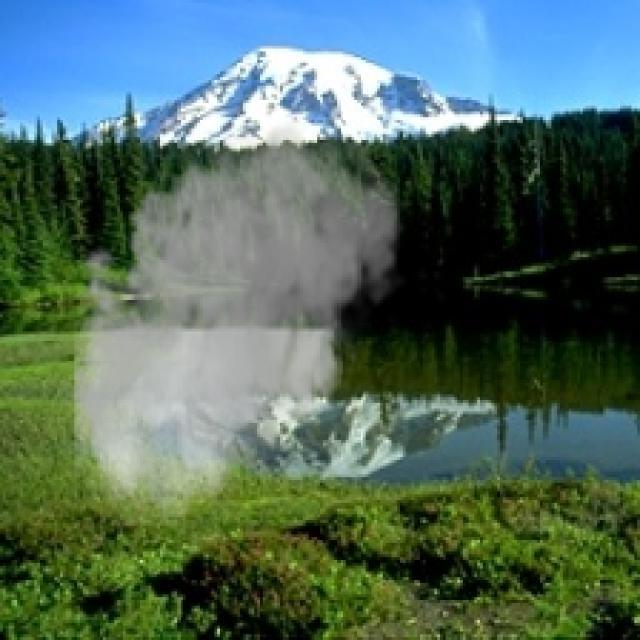Smoke: (60, 108, 409, 526)
